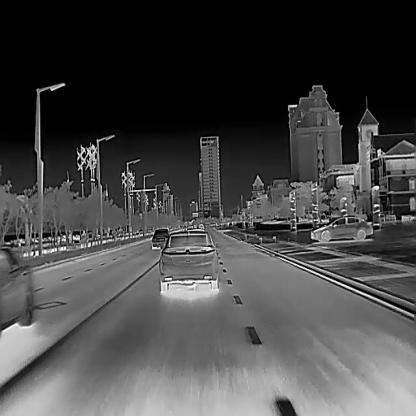car: (157, 228, 220, 292), (0, 246, 34, 331), (309, 214, 372, 241), (151, 226, 168, 247), (385, 211, 396, 220), (198, 221, 204, 230)
